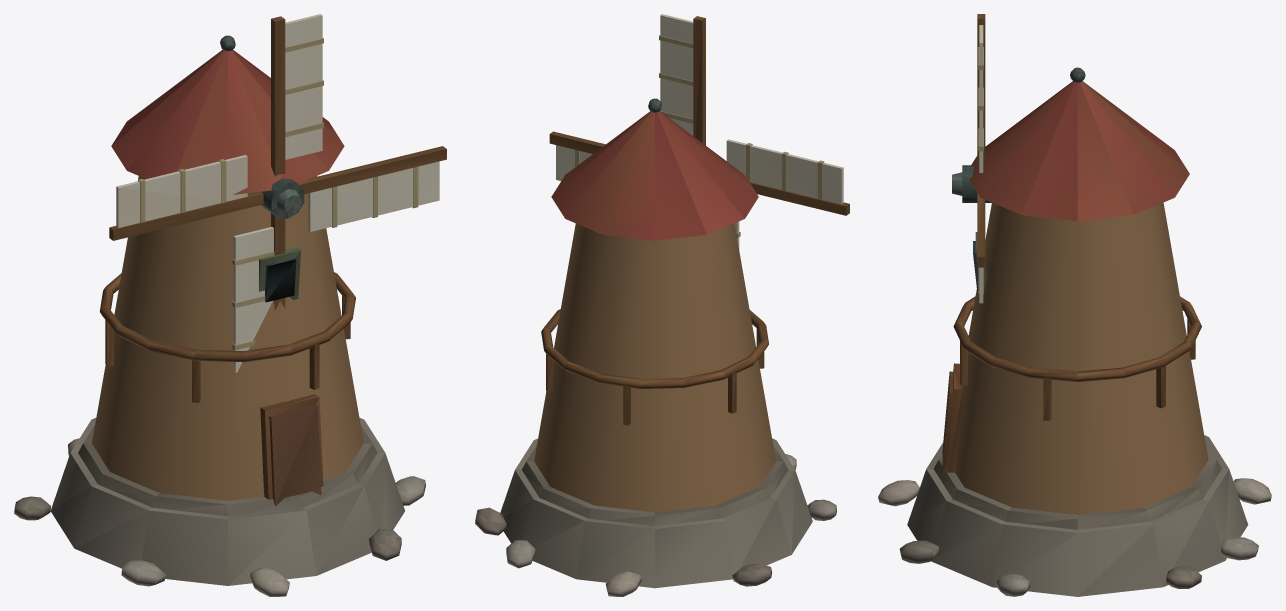
Rendered from farm-windmill.m1.glb.
3 renders of one model, left to right at view 1: azimuth 30°, elevation 25°; view 2: azimuth 150°, elevation 25°; view 3: azimuth 270°, elevation 25°, orthographic. The views are drawn at different scales.
Visible parts, largest first — view 1: windmillHardware, windmillTower, windmillBlades; view 2: windmillTower, windmillHardware, windmillBlades; view 3: windmillTower, windmillHardware, windmillBlades.
Part boxes in pixels (box(x1,y1,x2,y2)): windmillHardware: box(14, 35, 425, 596); windmillTower: box(92, 176, 363, 500); windmillBlades: box(109, 14, 446, 372); windmillTower: box(534, 223, 775, 512); windmillHardware: box(475, 98, 836, 596); windmillBlades: box(549, 14, 849, 249); windmillTower: box(955, 202, 1208, 514); windmillHardware: box(878, 67, 1271, 596); windmillBlades: box(952, 14, 992, 303).
Bounding box in the file's own units: 3.35 × 5.02 × 3.51.
